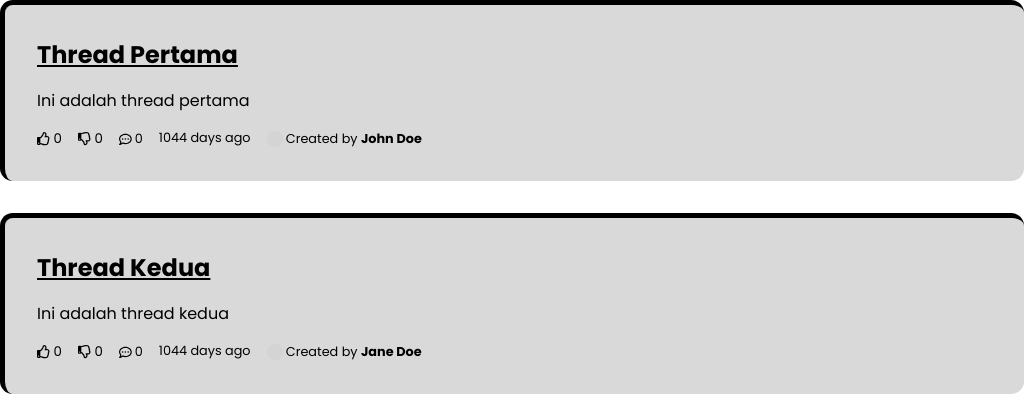
Test case: ThreadList component › should add the down vote when user click the down vote button
Step 1. Click the 1st button with class "dislikes" → (90, 139), box left=78, top=129, right=103, bottom=149
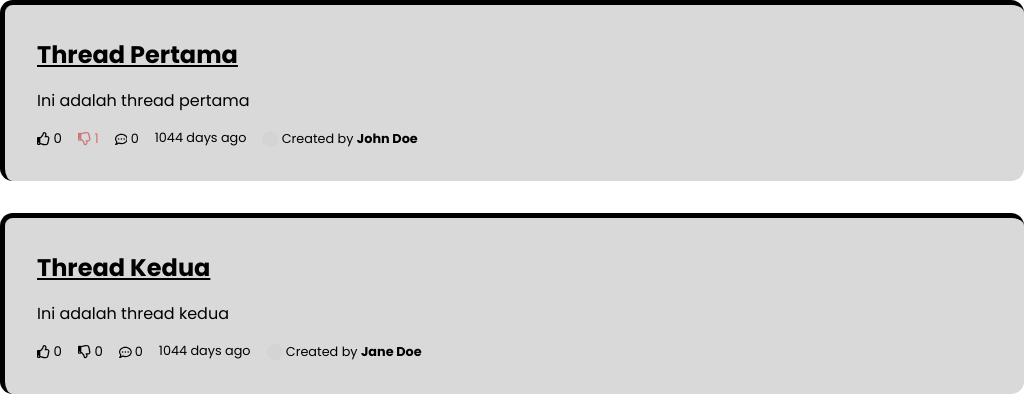
Step 2. Click the 2nd button with class "dislikes" → (90, 352), box left=78, top=342, right=103, bottom=362
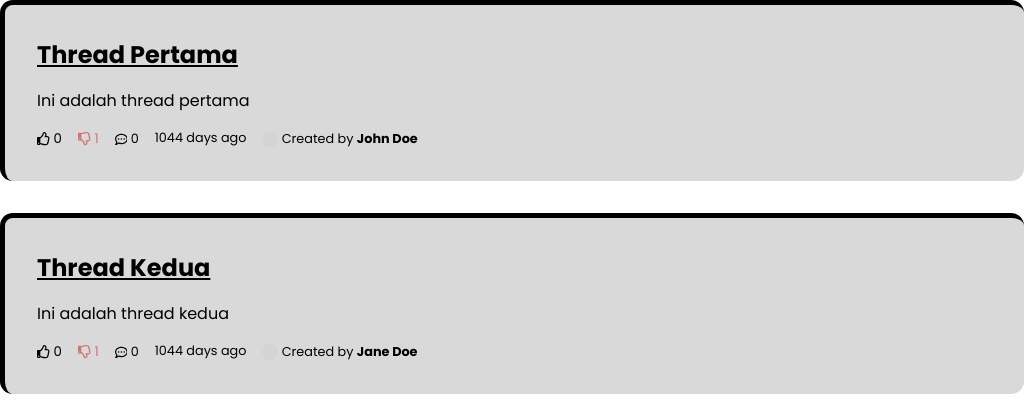
Check: the text "1" in the row of "John Doe" is shown, box left=94, top=129, right=99, bottom=148
Check: the text "1" in the row of "Jane Doe" is shown, box left=94, top=342, right=99, bottom=361
